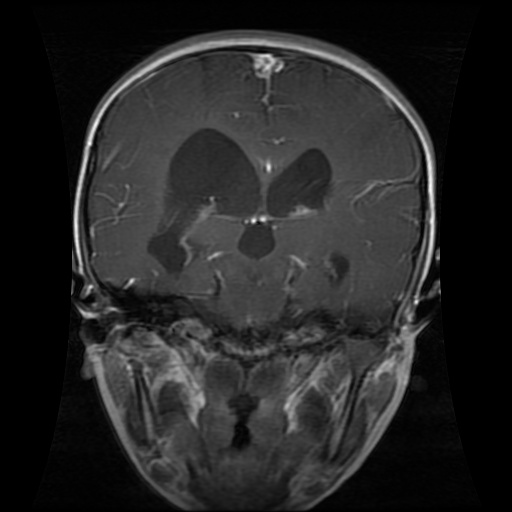glioma: (145, 124, 260, 280)
